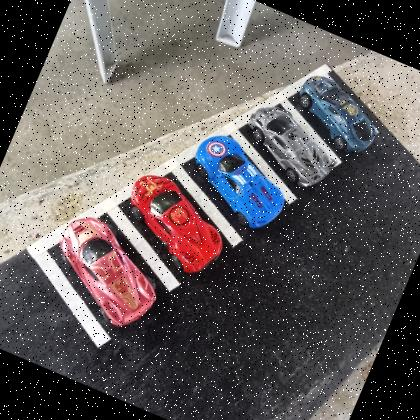Car: (36, 208, 176, 338), (108, 167, 238, 283), (178, 127, 300, 236), (234, 99, 348, 195), (284, 70, 389, 160)
